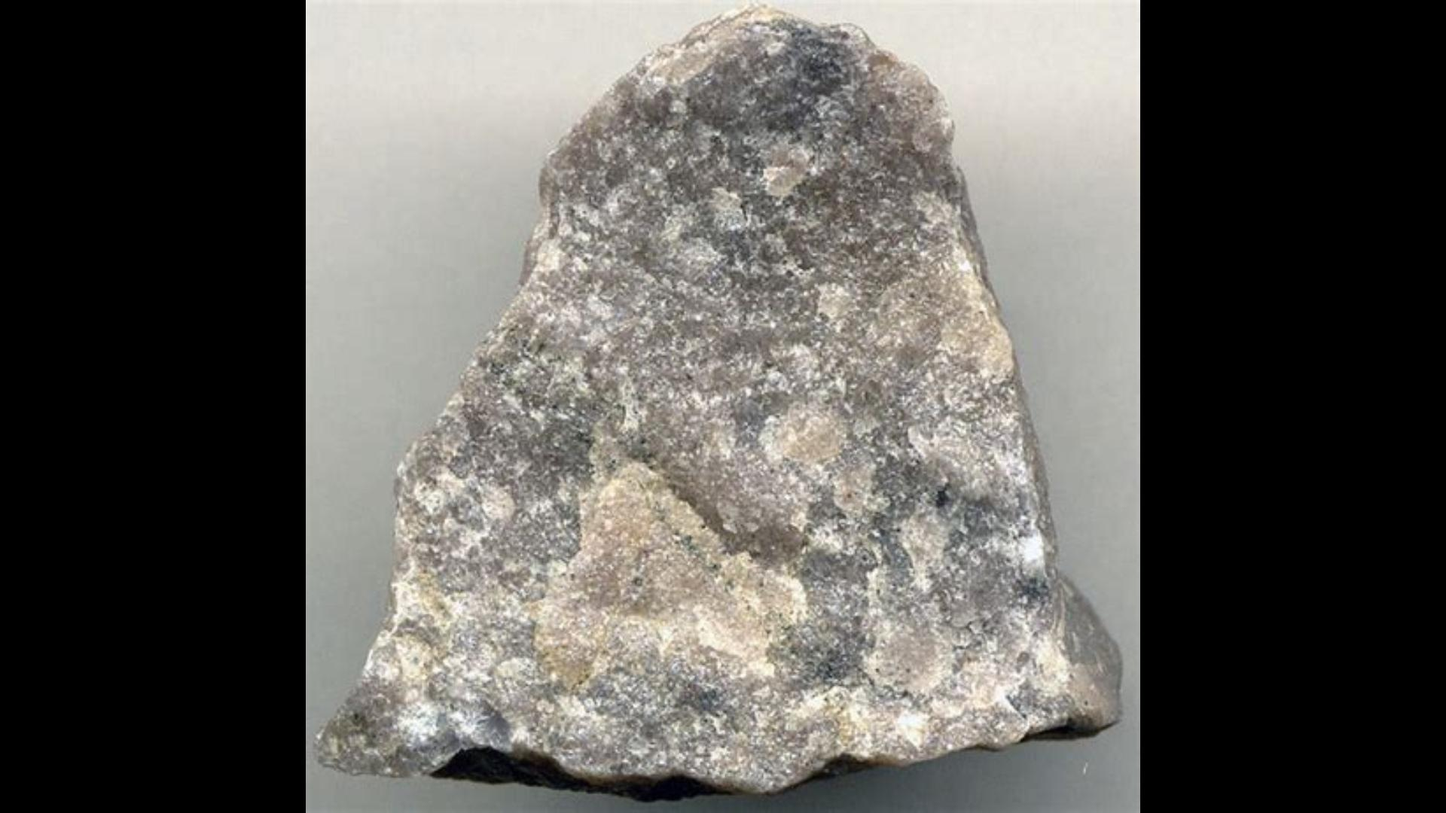rock: (322, 7, 1112, 790)
